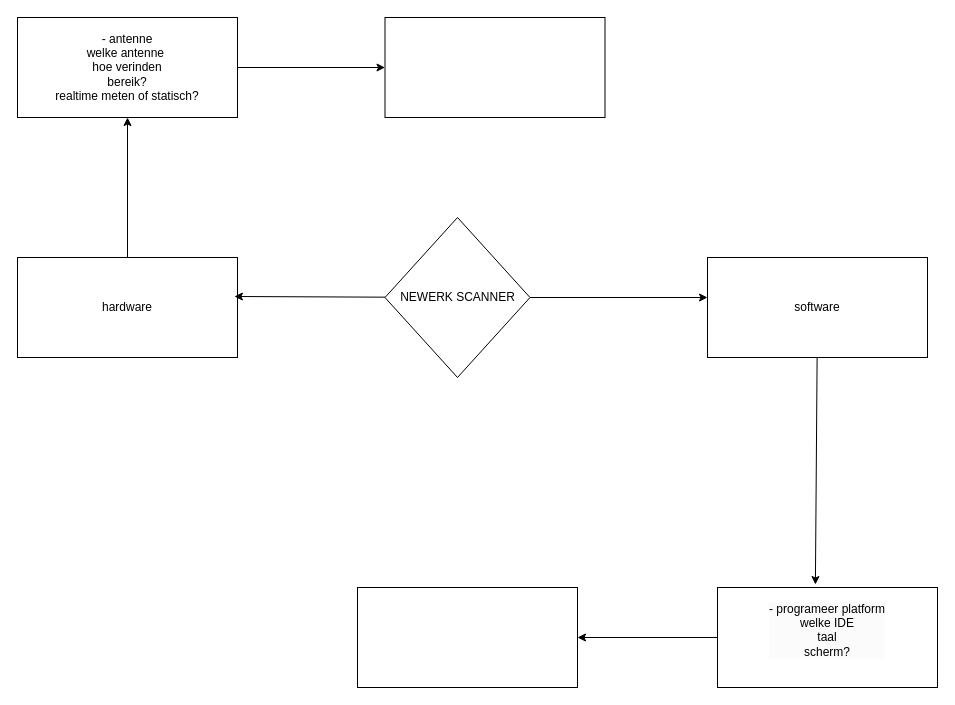
Some shapes in this 955 by 705 pixel diagram are drawn without their labels. Each missing label, with the centre of its shape:
"- voeding welke batt? duur? laadtijd?" goes at (494,67).
"verschillende protocollen" goes at (467,637).
